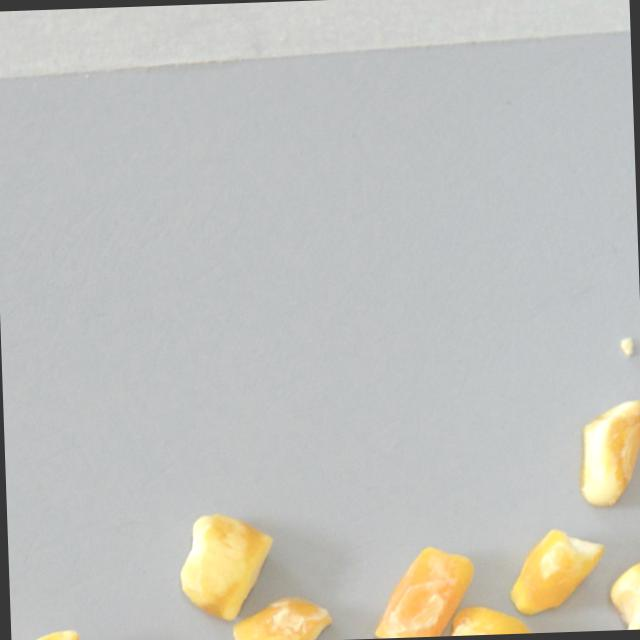dañado: (174, 507, 280, 627), (367, 543, 481, 638), (506, 521, 610, 618), (572, 394, 640, 510), (230, 591, 334, 640), (445, 599, 539, 636), (608, 557, 640, 630), (10, 619, 116, 640)
